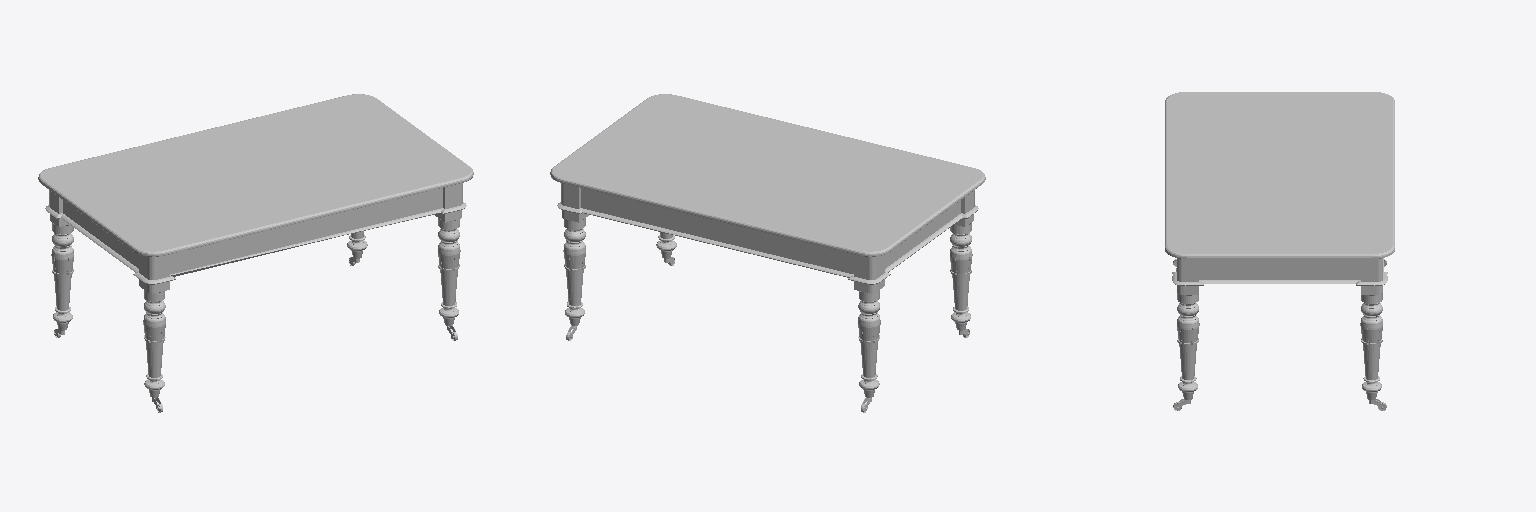
File: mesa_grande.obj
3 renders of one model, left to right at view 1: azimuth 30°, elevation 25°; view 2: azimuth 150°, elevation 25°; view 3: azimuth 270°, elevation 25°, orthographic.
Parts seen in each view (by area): view 1: Table_Top_Cube.001, Legs_and_Rails_Cylinder.005, Brass_Wheels_Bolt.000; view 2: Table_Top_Cube.001, Legs_and_Rails_Cylinder.005, Brass_Wheels_Bolt.000; view 3: Table_Top_Cube.001, Legs_and_Rails_Cylinder.005.
Part boxes in pixels (bbox=[...]): Table_Top_Cube.001: bbox=[38, 94, 473, 256]; Legs_and_Rails_Cylinder.005: bbox=[45, 183, 466, 389]; Brass_Wheels_Bolt.000: bbox=[54, 250, 457, 412]; Table_Top_Cube.001: bbox=[550, 94, 985, 256]; Legs_and_Rails_Cylinder.005: bbox=[557, 183, 978, 389]; Brass_Wheels_Bolt.000: bbox=[566, 250, 969, 412]; Table_Top_Cube.001: bbox=[1165, 92, 1394, 258]; Legs_and_Rails_Cylinder.005: bbox=[1172, 258, 1387, 392].
Size of the model in its own units: 13.71 by 6.46 by 8.14.